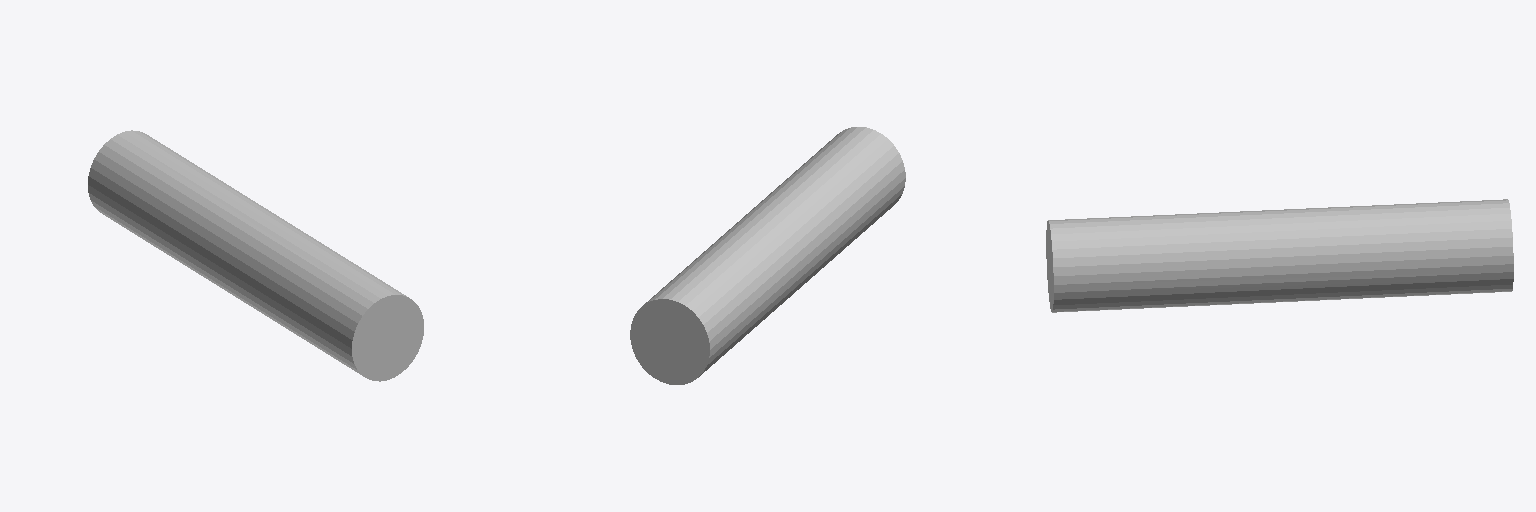
The model's file is PistonBase.obj.
3 views of the same model, side by side, from view 1: azimuth 30°, elevation 25°; view 2: azimuth 150°, elevation 25°; view 3: azimuth 270°, elevation 25° (orthographic).
Parts seen in each view (by area): view 1: PistonBase; view 2: PistonBase; view 3: PistonBase.
Boxes of the visible parts, <box> form: PistonBase: <box>88,130,423,381</box>; PistonBase: <box>630,127,905,384</box>; PistonBase: <box>1046,199,1513,312</box>.
Bounding box in the file's own units: 0.0232 × 0.0179 × 0.0851.